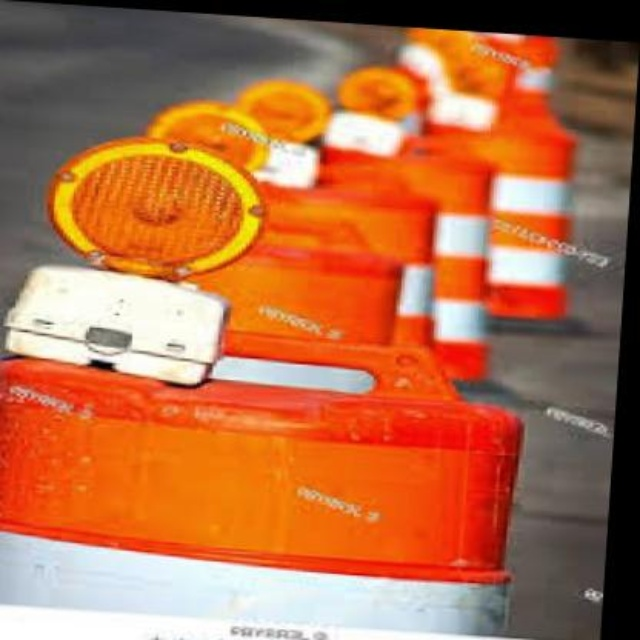obstacle: (0, 332, 541, 633)
